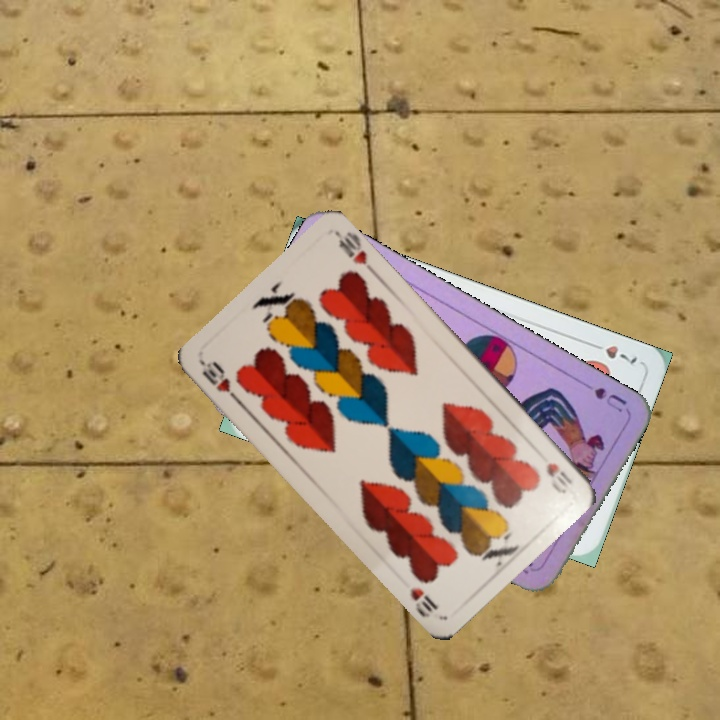H10: (198, 357, 243, 406), (542, 458, 576, 496)
H7: (585, 338, 640, 368)
SU: (574, 376, 630, 415)
